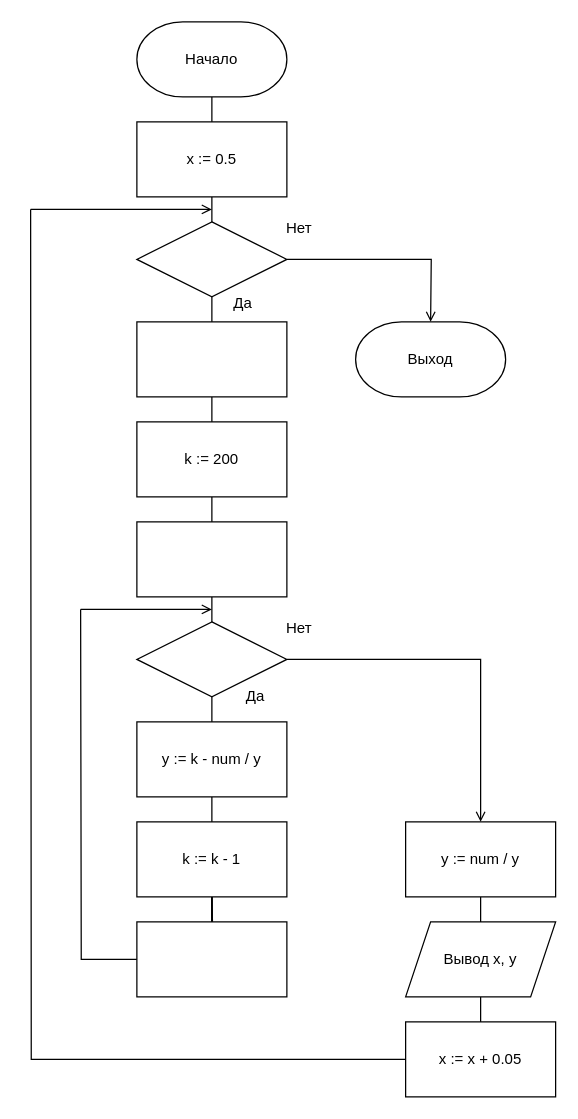
The diagram is 578 pixels wide and 1119 high, and some of its shapes have lost their labels. The shapes that lost their labels are listed below. From the top down, each one's box as (x1, y1, x2, y2) in pixels, then its label:
(136, 221, 287, 297): x <= 0.8
(136, 321, 287, 397): у := 201
(136, 521, 287, 597): num := x - 200
(136, 621, 287, 697): num <> x
(136, 921, 287, 997): num := num + 1
